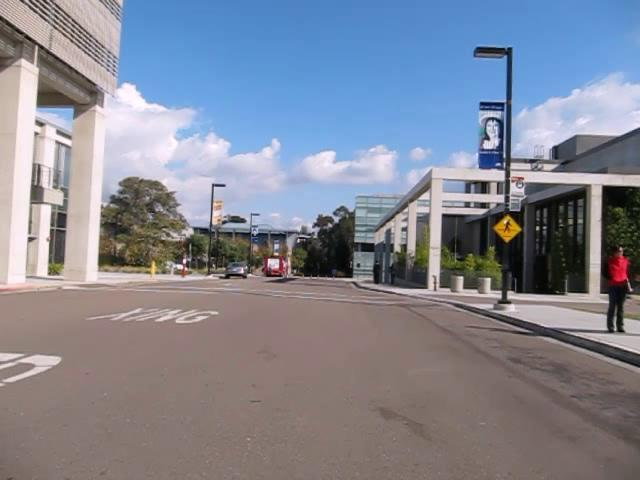pedestrianCrossing: (492, 212, 522, 243)
